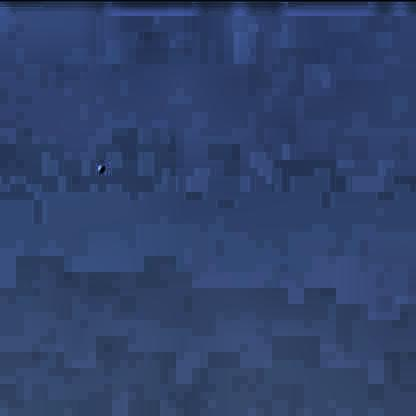golfball: (94, 162, 104, 169)
